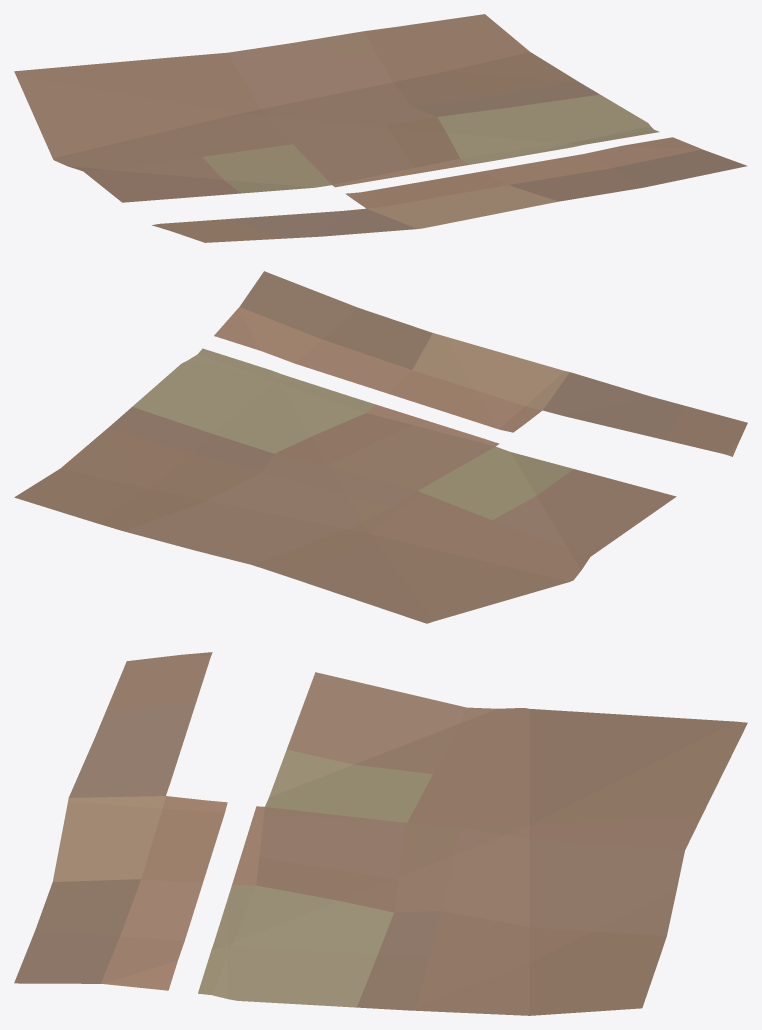
File: farm_2_21_soil.glb
3 views of the same model, one above another, from view 1: azimuth 30°, elevation 25°; view 2: azimuth 150°, elevation 25°; view 3: azimuth 270°, elevation 25° (orthographic). The views are drawn at different scales.
Visible parts, largest first — view 1: geometry_0; view 2: geometry_0; view 3: geometry_0.
Part boxes in pixels (bbox=[...]): geometry_0: bbox=[14, 14, 747, 242]; geometry_0: bbox=[14, 271, 747, 623]; geometry_0: bbox=[14, 652, 747, 1015].
Bounding box in the file's own units: 200 × 16.32 × 194.
